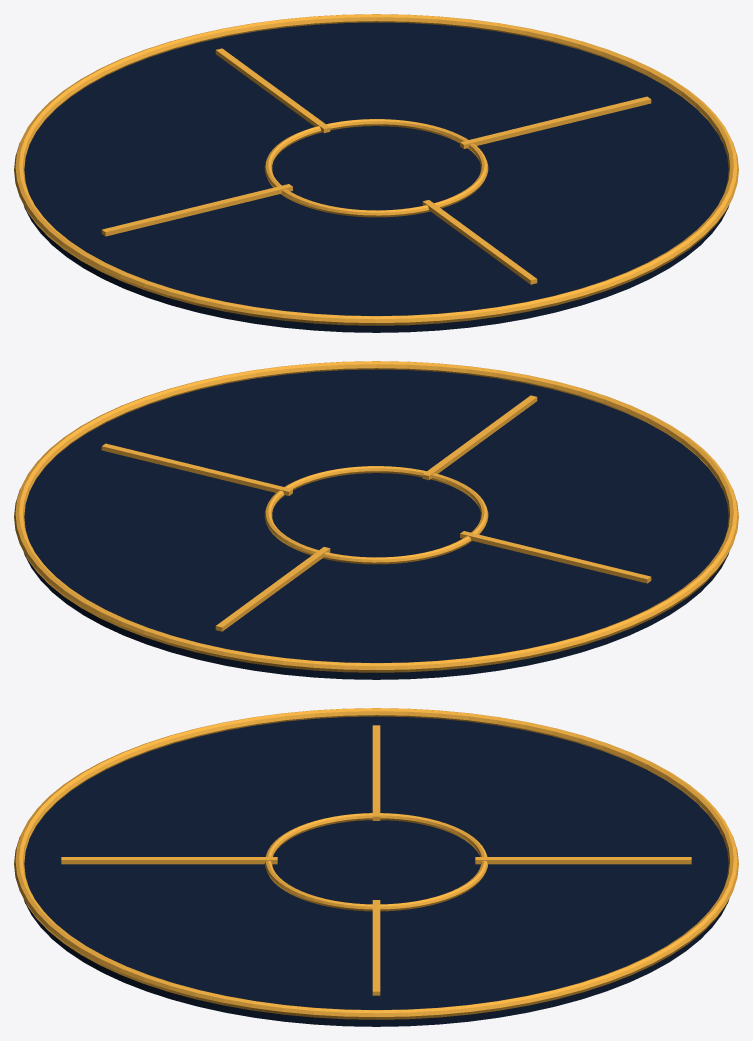
File: vmt_tuner_floor_ring.obj
3 renders of one model, top to bottom at view 1: azimuth 30°, elevation 25°; view 2: azimuth 150°, elevation 25°; view 3: azimuth 270°, elevation 25°, orthographic.
Parts seen in each view (by area): view 1: VMT_TunerFloorRing_Blockout; view 2: VMT_TunerFloorRing_Blockout; view 3: VMT_TunerFloorRing_Blockout.
Boxes of the visible parts, left/top/right/bottom form: VMT_TunerFloorRing_Blockout: left=14, top=14, right=738, bottom=332; VMT_TunerFloorRing_Blockout: left=14, top=361, right=738, bottom=679; VMT_TunerFloorRing_Blockout: left=14, top=708, right=738, bottom=1026.
Bounding box in the file's own units: 7.71 × 0.205 × 7.71.
